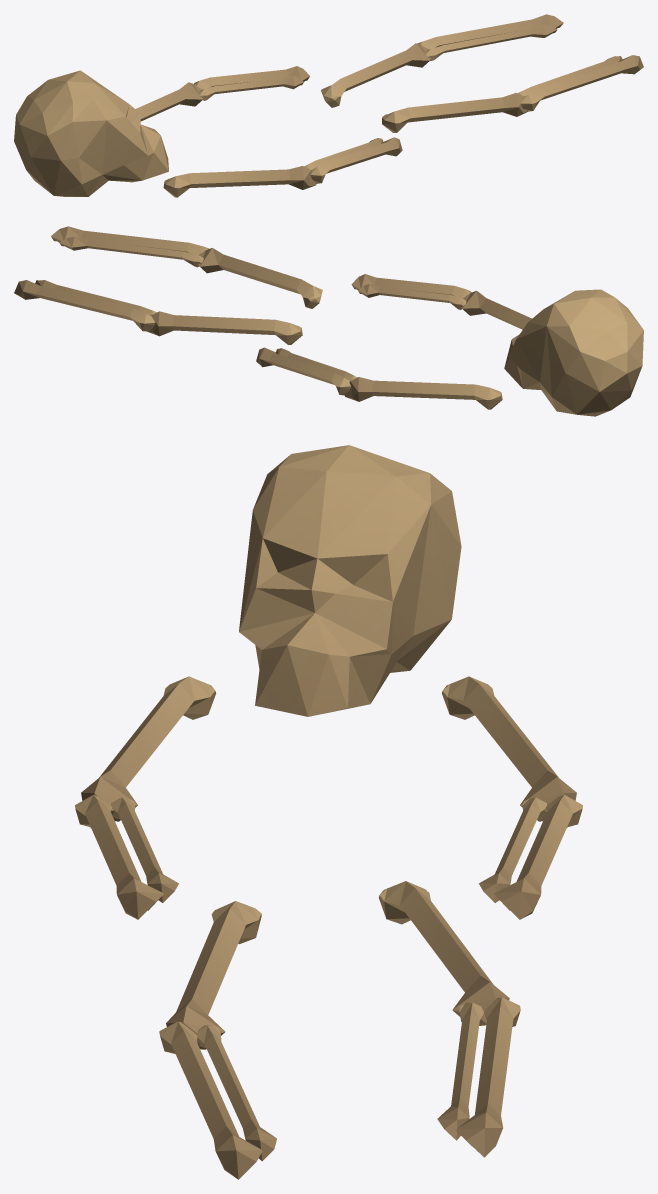
File: Skull_.fbx
3 renders of one model, top to bottom at view 1: azimuth 30°, elevation 25°; view 2: azimuth 150°, elevation 25°; view 3: azimuth 270°, elevation 25°, orthographic. The views are drawn at different scales.
Visible parts, largest first — view 1: polySurface1424; view 2: polySurface1424; view 3: polySurface1424.
Boxes of the visible parts, <box> form: polySurface1424: <box>14,14,643,197</box>; polySurface1424: <box>14,226,643,416</box>; polySurface1424: <box>75,445,582,1179</box>.
Bounding box in the file's own units: 4.92 × 0.9079 × 1.83.
